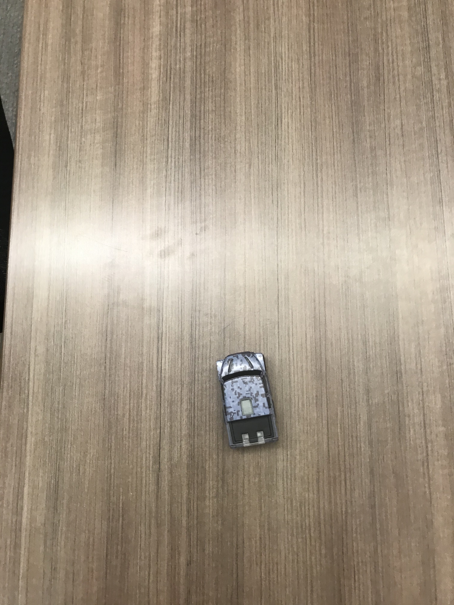MXT: (212, 351, 282, 451)
